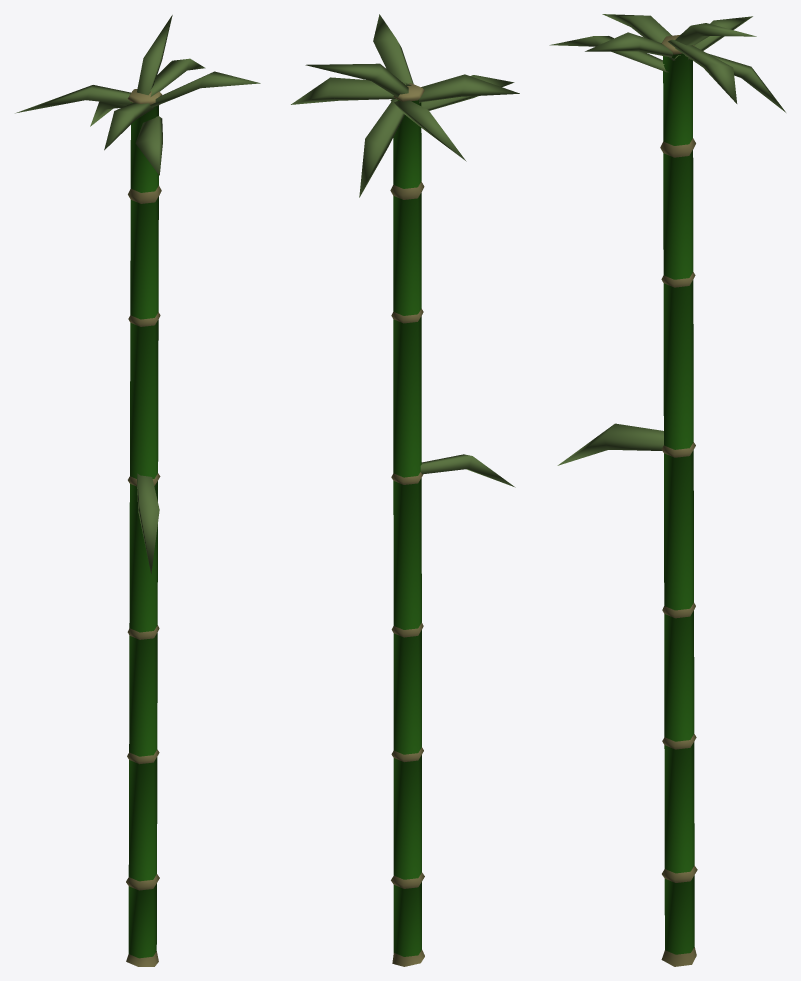
The model's file is Bamboo_02.fbx.
3 renders of one model, left to right at view 1: azimuth 30°, elevation 25°; view 2: azimuth 150°, elevation 25°; view 3: azimuth 270°, elevation 25°, orthographic. The views are drawn at different scales.
Parts seen in each view (by area): view 1: polySurface14; view 2: polySurface14; view 3: polySurface14.
Boxes of the visible parts, <box> form: polySurface14: <box>15,15,260,966</box>; polySurface14: <box>291,14,519,966</box>; polySurface14: <box>549,14,785,966</box>.
Bounding box in the file's own units: 40.5 × 191 × 42.96.
